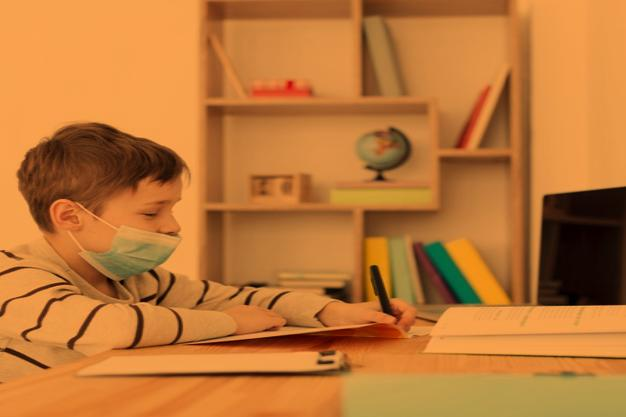mask_weared_incorrect: (20, 119, 188, 283)
